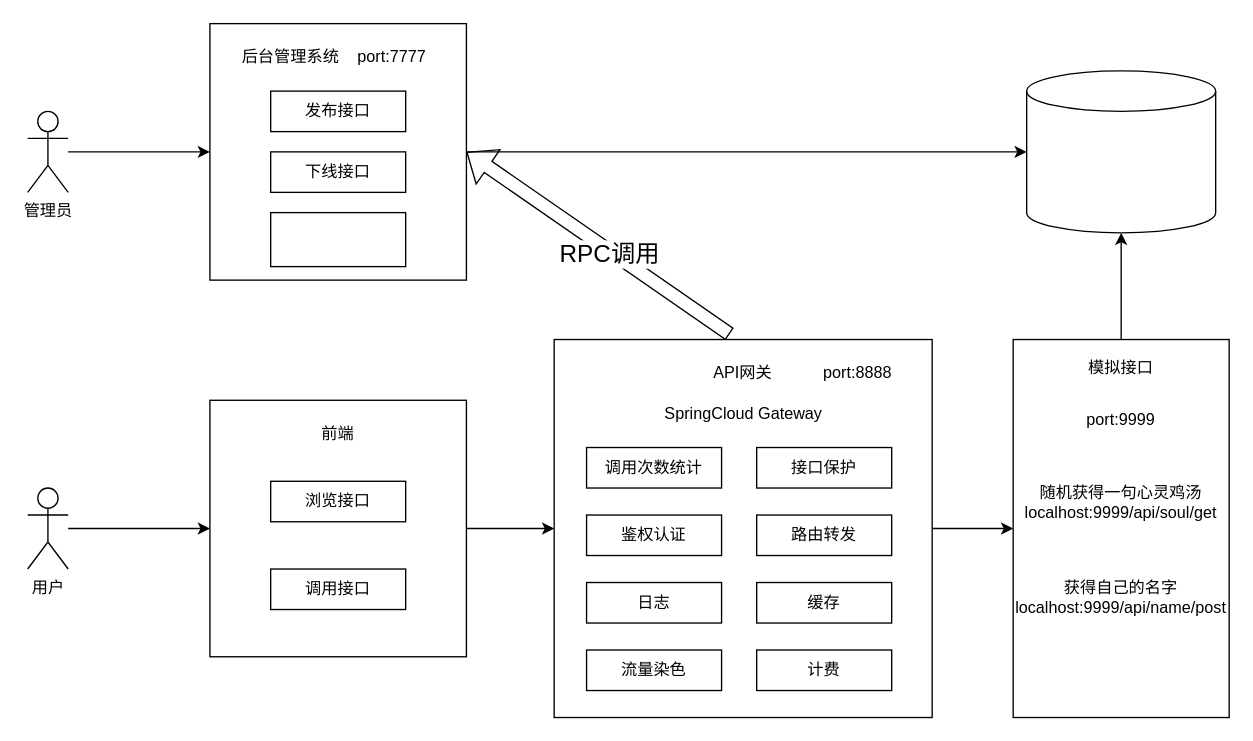
Image size: 1253x741. Some labels were removed from this diagram. The shapes that lost their labels are listed below. From the top down, each one's centre as x and y in pixels, then its label:
(1120,151): 数据库
(337,239): 接口管理 (增删改查)
